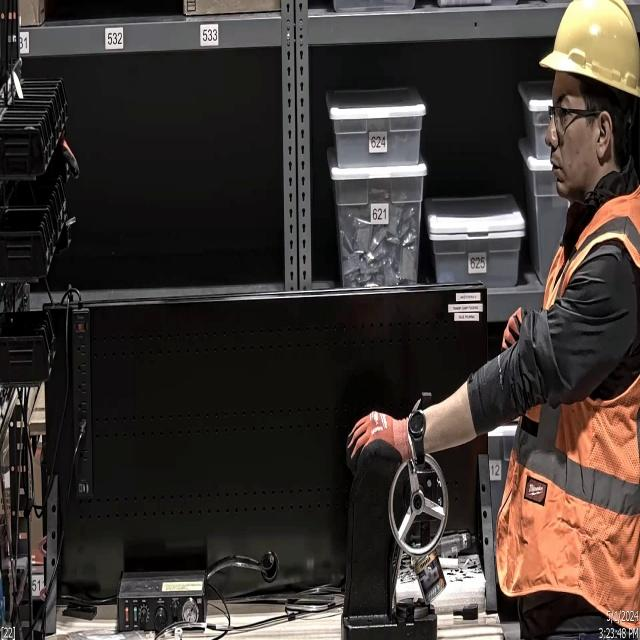construction-gloves: (342, 408, 418, 475)
